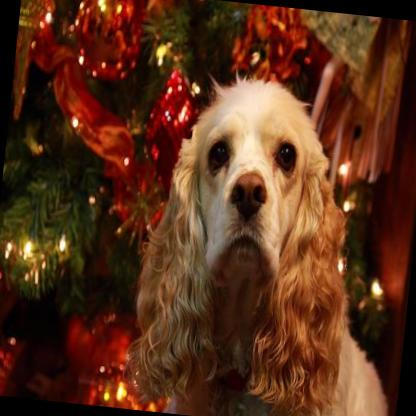cocker_spaniel: (122, 60, 416, 416)
